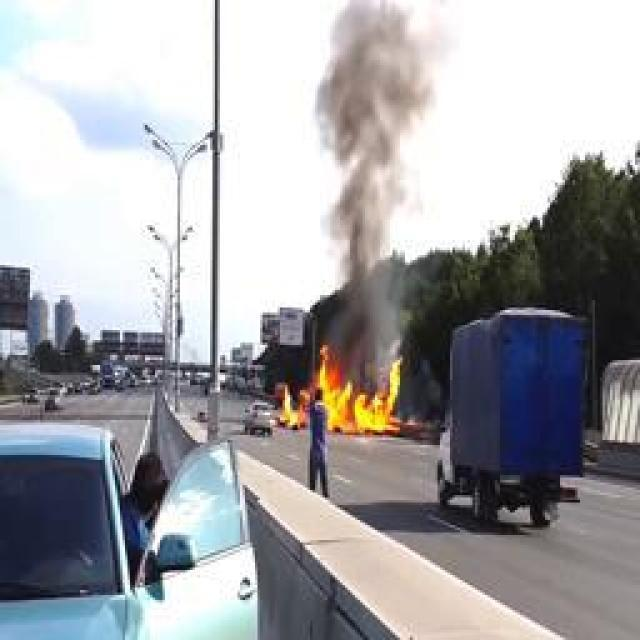Fire: (282, 348, 416, 430)
